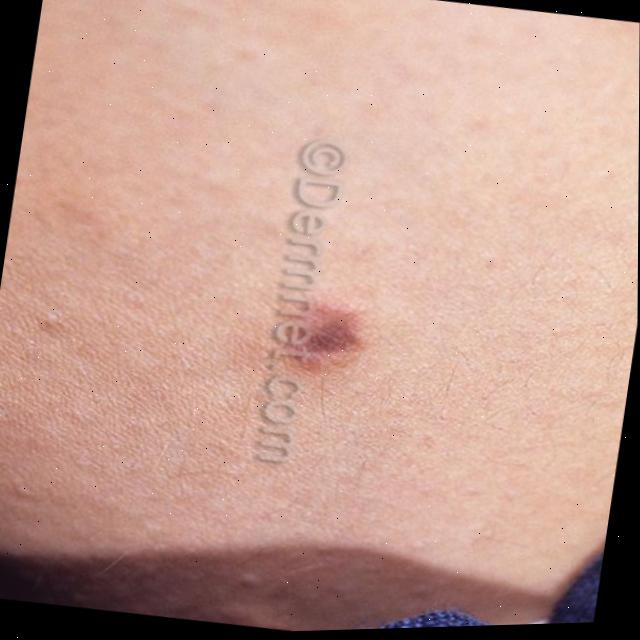Eczema: (273, 291, 352, 379)
